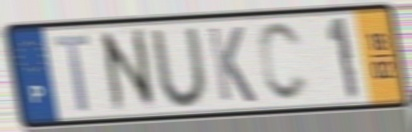1: (325, 13, 363, 103)
C: (255, 19, 312, 105)
K: (205, 25, 259, 105)
N: (96, 24, 162, 117)
T: (50, 32, 93, 115)
U: (147, 24, 213, 110)
